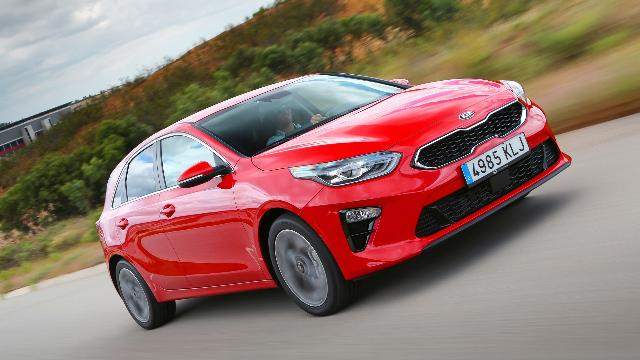kia: (94, 72, 572, 330)
